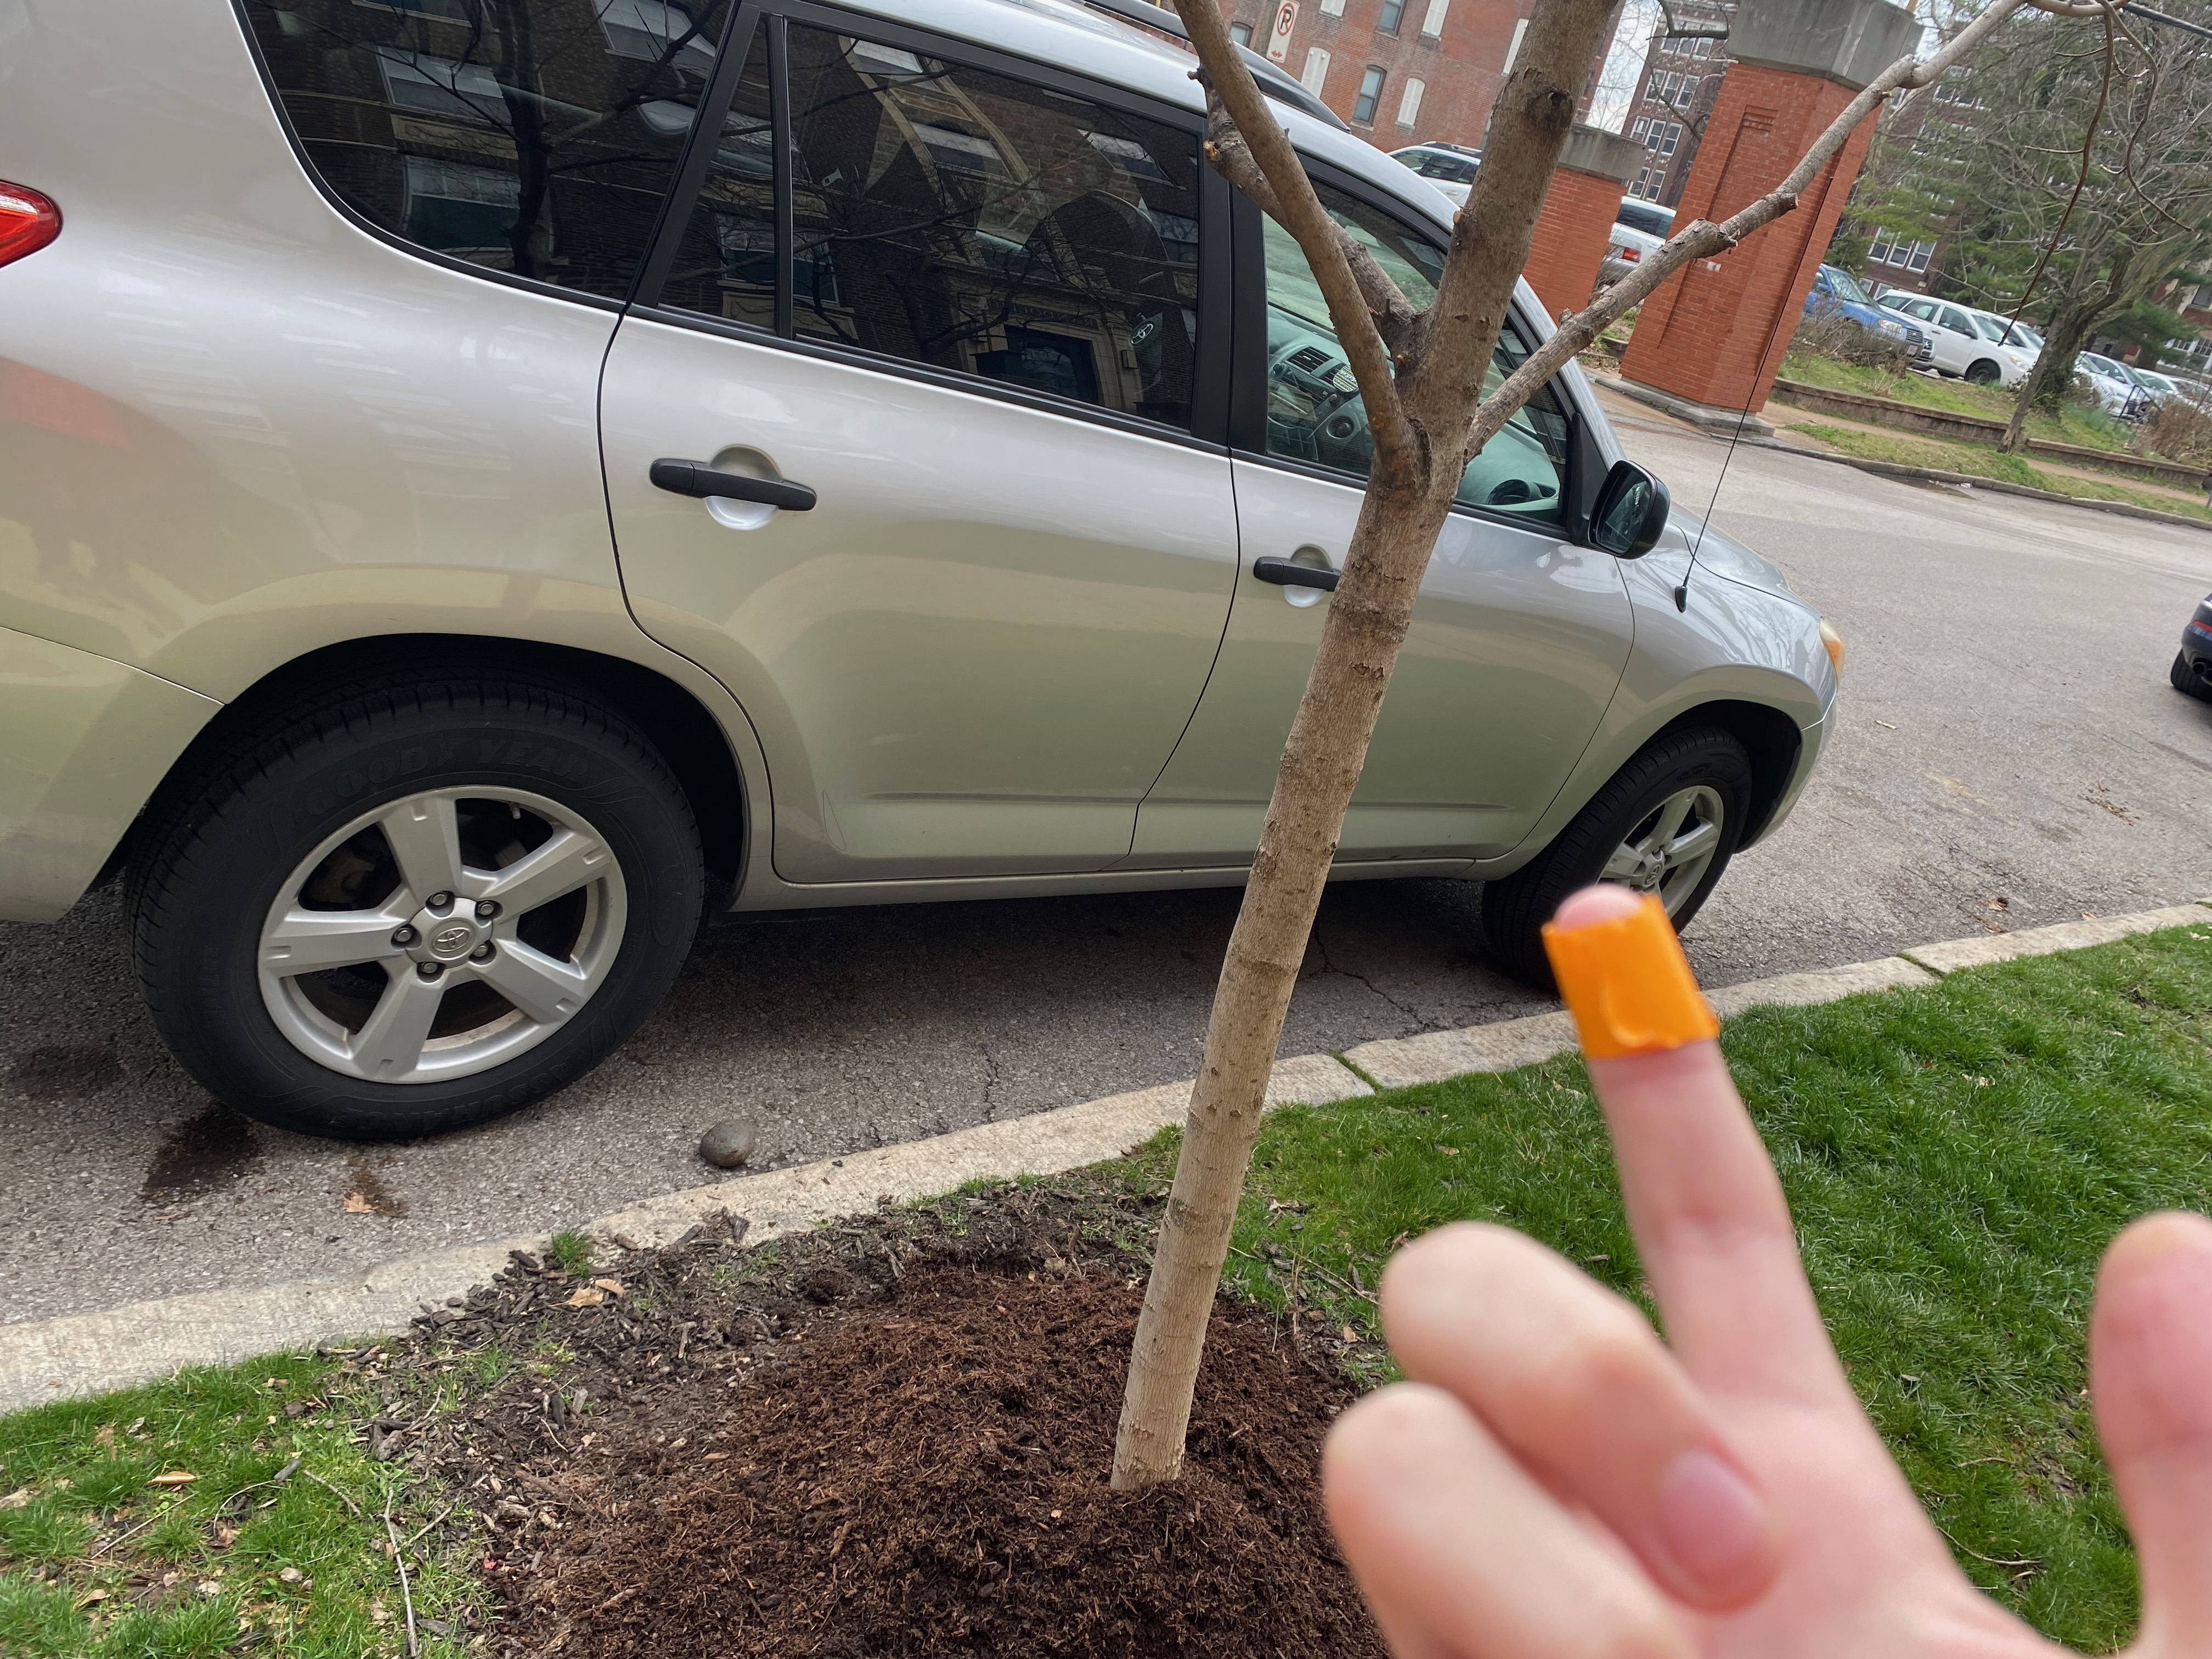fingertip: (1508, 864, 1780, 1117)
